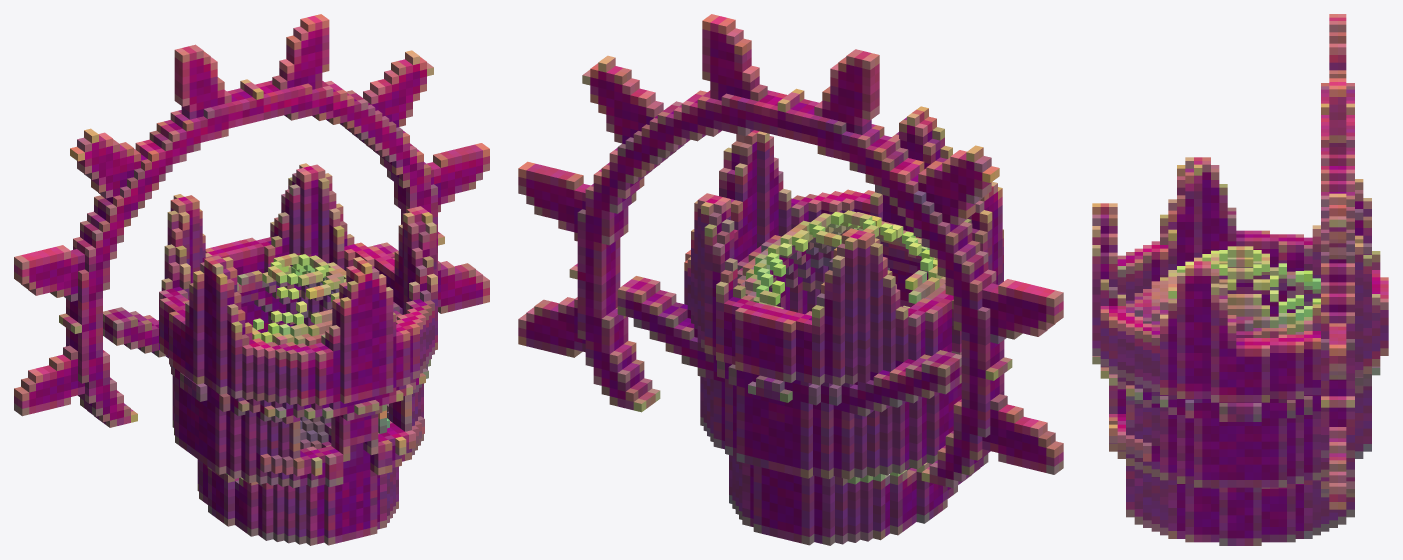
The model's file is armor_set3_head.glb.
3 renders of one model, left to right at view 1: azimuth 30°, elevation 25°; view 2: azimuth 150°, elevation 25°; view 3: azimuth 270°, elevation 25°, orthographic. The views are drawn at different scales.
Parts seen in each view (by area): view 1: Set3_CrownedOssuarySkull_7mm; view 2: Set3_CrownedOssuarySkull_7mm; view 3: Set3_CrownedOssuarySkull_7mm.
Part boxes in pixels (x1,y1,x2,y2): Set3_CrownedOssuarySkull_7mm: [14, 14, 489, 545]; Set3_CrownedOssuarySkull_7mm: [518, 14, 1063, 545]; Set3_CrownedOssuarySkull_7mm: [1092, 14, 1388, 545].
Size of the model in its own units: 0.469 by 0.413 by 0.245.
